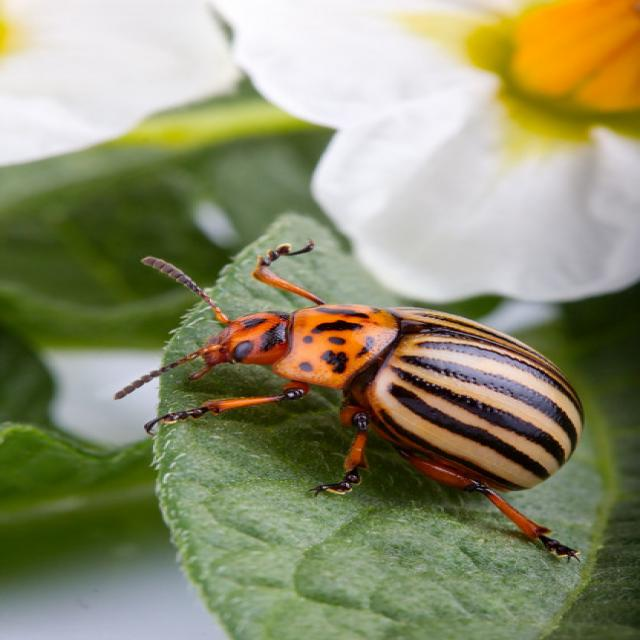ShuCaiHuaBanChong-Grown-: (113, 235, 600, 532)
